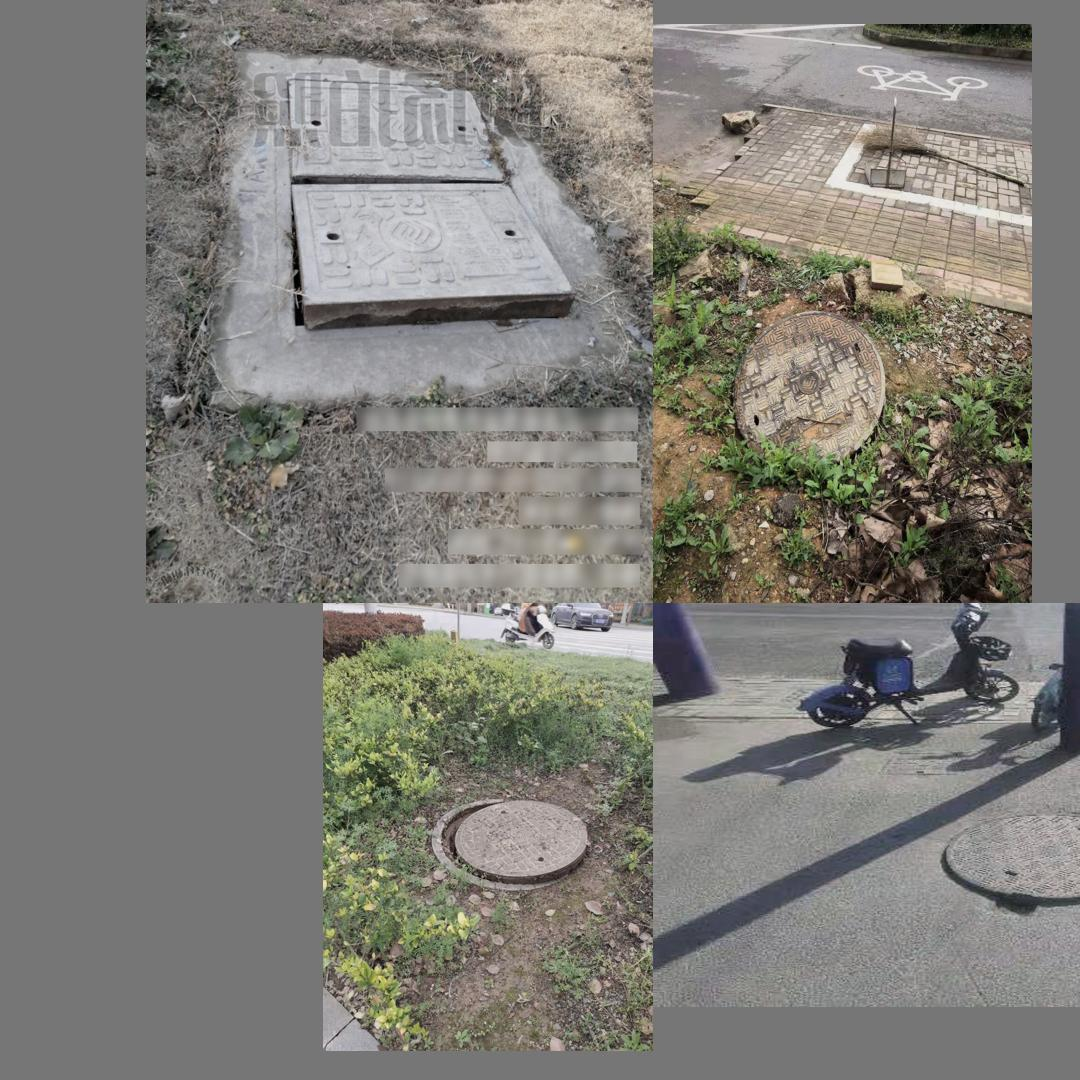uncovered: (283, 77, 579, 337), (733, 312, 886, 466), (432, 799, 587, 889), (938, 813, 1080, 908)
